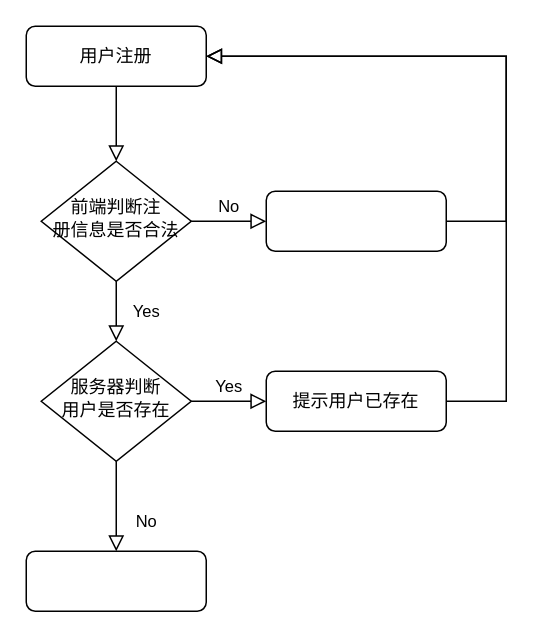
The diagram is 548 pixels wide and 638 high, and some of its shapes have lost their labels. The shapes that lost their labels are listed below. From the top down, each one's box as (x1, y1, x2, y2) in pixels, then its label:
(265, 190, 446, 251): 提示输入信息错误
(25, 550, 206, 611): 用户注册成功
